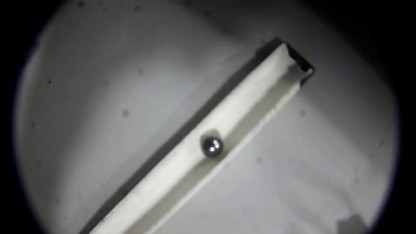gangzhu: (200, 135, 224, 157)
